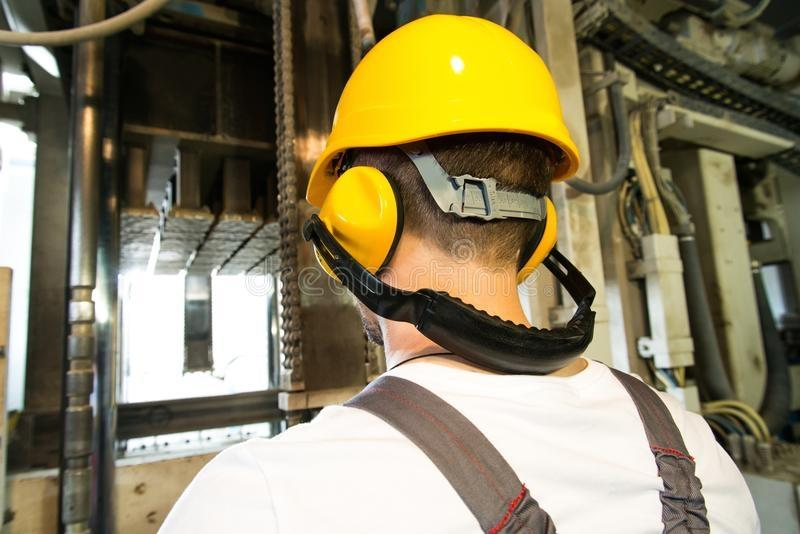helmet: (305, 8, 580, 207)
no_wear: (154, 376, 762, 534)
